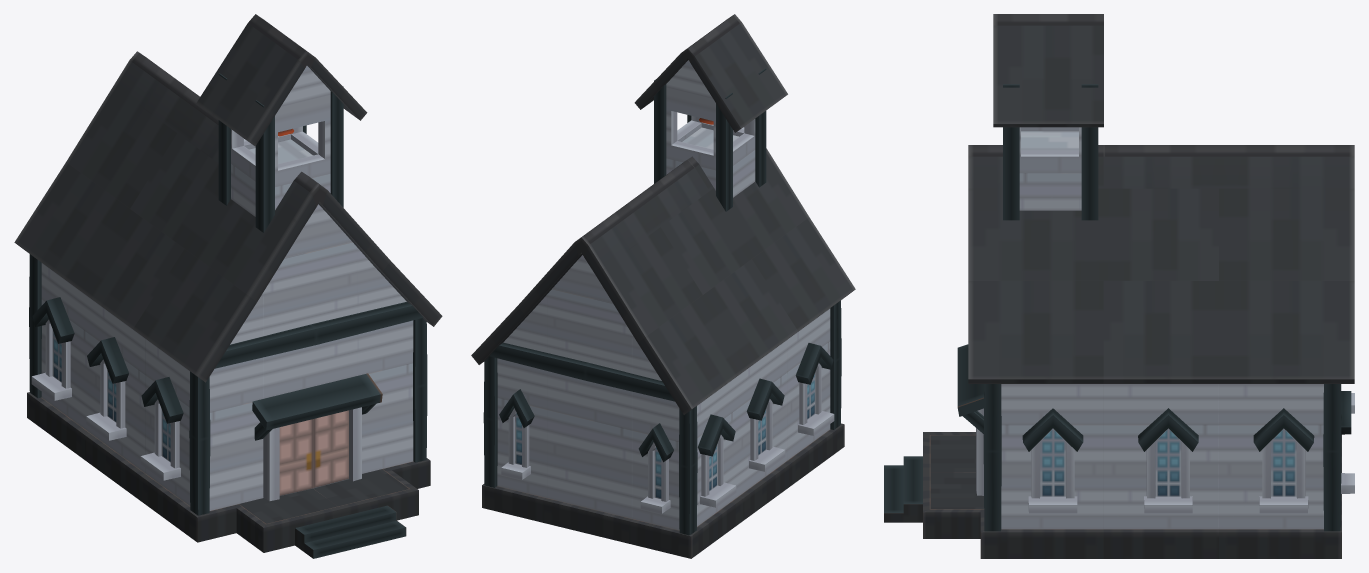
Rendered from church_v003.fbx.
3 renders of one model, left to right at view 1: azimuth 30°, elevation 25°; view 2: azimuth 150°, elevation 25°; view 3: azimuth 270°, elevation 25°, orthographic. The views are drawn at different scales.
Parts seen in each view (by area): view 1: church_v003; view 2: church_v003; view 3: church_v003.
Part boxes in pixels (bbox=[...]): church_v003: bbox=[14, 14, 442, 558]; church_v003: bbox=[471, 14, 855, 558]; church_v003: bbox=[884, 14, 1354, 558].
Bounding box in the file's own units: 540 × 927 × 816.
